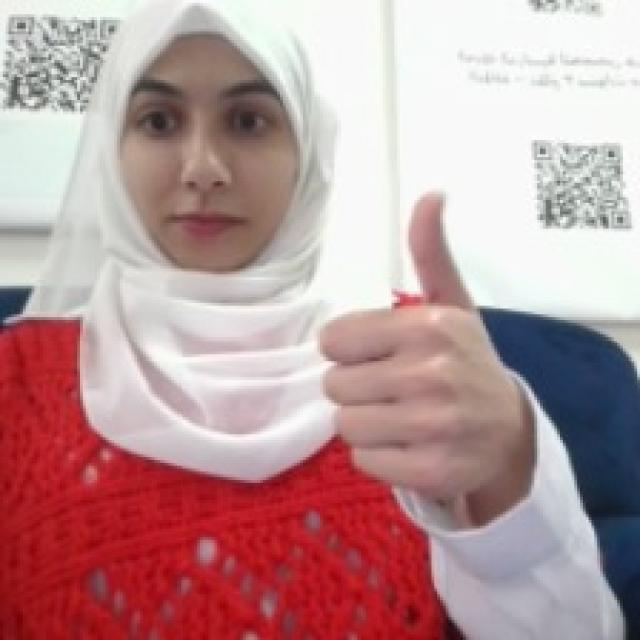fine: (306, 171, 517, 506)
